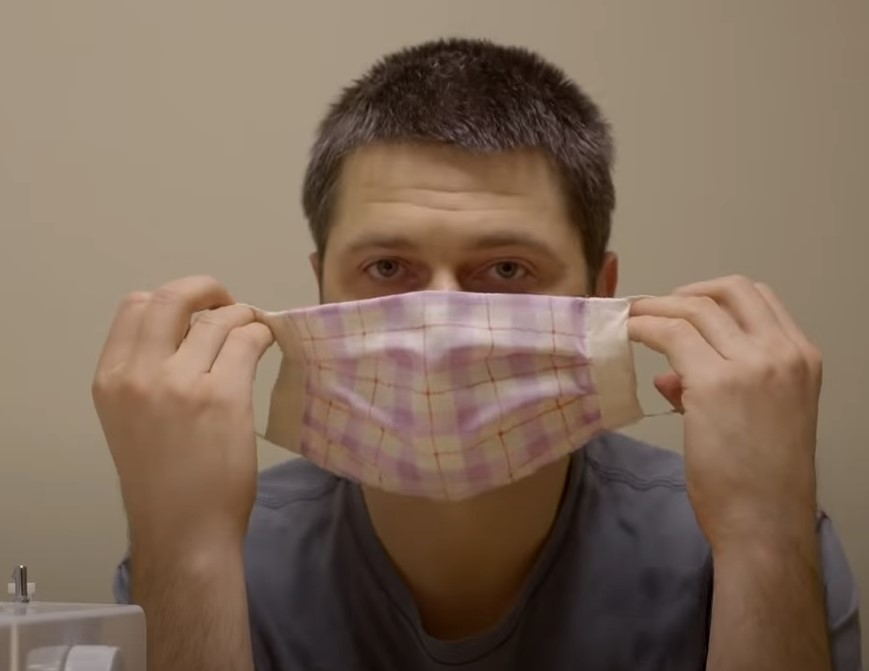face_with_mask: (243, 32, 674, 512)
